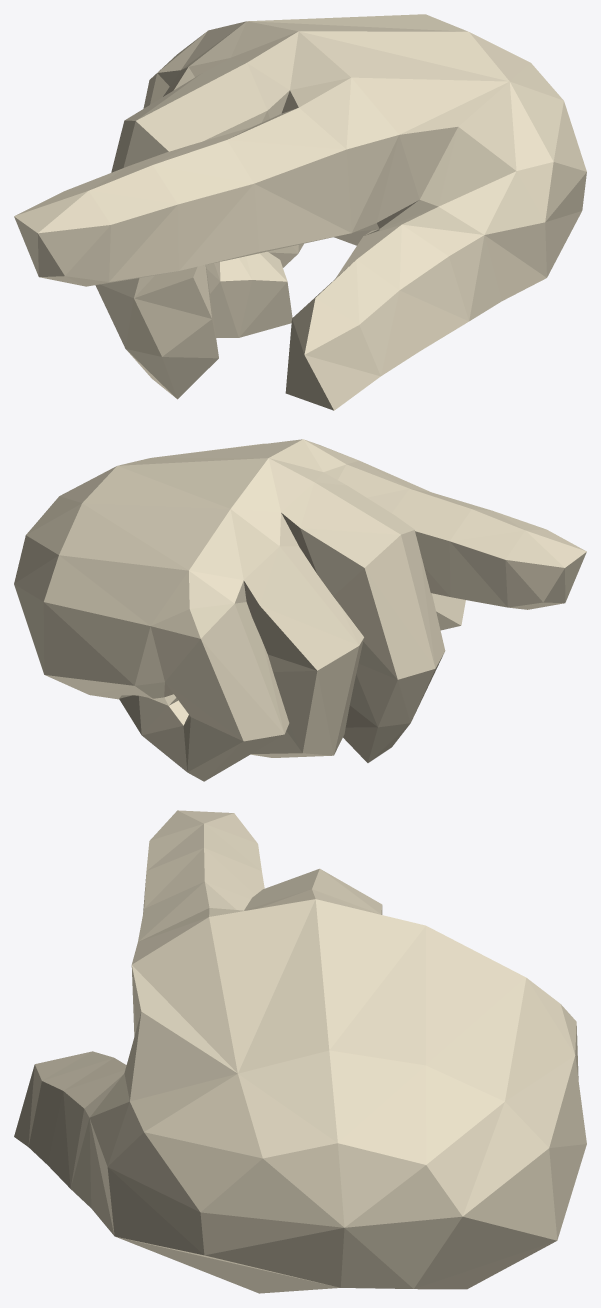
File: F2_UI_3D_Hand_Move_Outline.dae
3 views of the same model, one above another, from view 1: azimuth 30°, elevation 25°; view 2: azimuth 150°, elevation 25°; view 3: azimuth 270°, elevation 25° (orthographic). The views are drawn at different scales.
Parts seen in each view (by area): view 1: vsn_mesh_0_; view 2: vsn_mesh_0_; view 3: vsn_mesh_0_.
Part boxes in pixels (x1=…): vsn_mesh_0_: x1=14, y1=14, x2=586, y2=410; vsn_mesh_0_: x1=14, y1=439, x2=586, y2=781; vsn_mesh_0_: x1=14, y1=810, x2=586, y2=1293.
Bounding box in the file's own units: 1.73 × 0.9337 × 1.3.
Materials: 1 (1 with a texture image).
